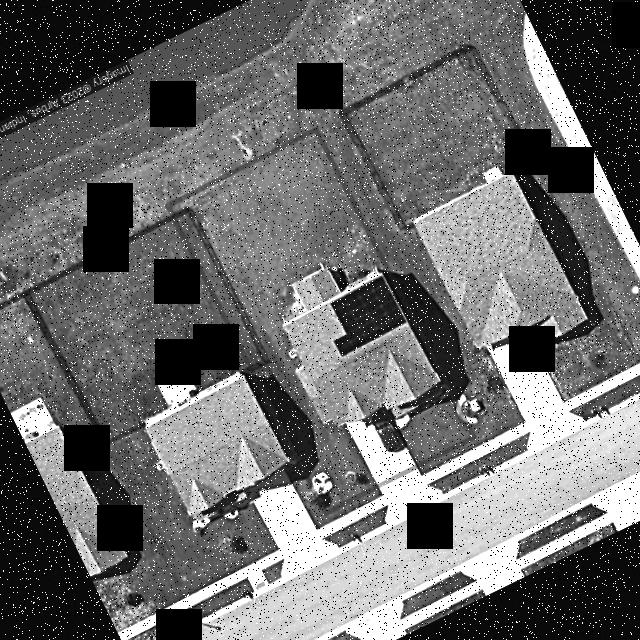Driveway: (345, 420, 412, 482)
Extra Driveway: (378, 469, 440, 522)
Extra Lawn: (427, 458, 487, 492), (417, 439, 475, 474), (333, 505, 384, 544), (324, 488, 380, 521)
Extra Sidewalk: (421, 446, 480, 483), (329, 495, 386, 530)
House: (282, 266, 437, 424)
Other: (310, 470, 332, 494), (344, 470, 354, 481)
Sidewalk: (394, 413, 409, 428)
